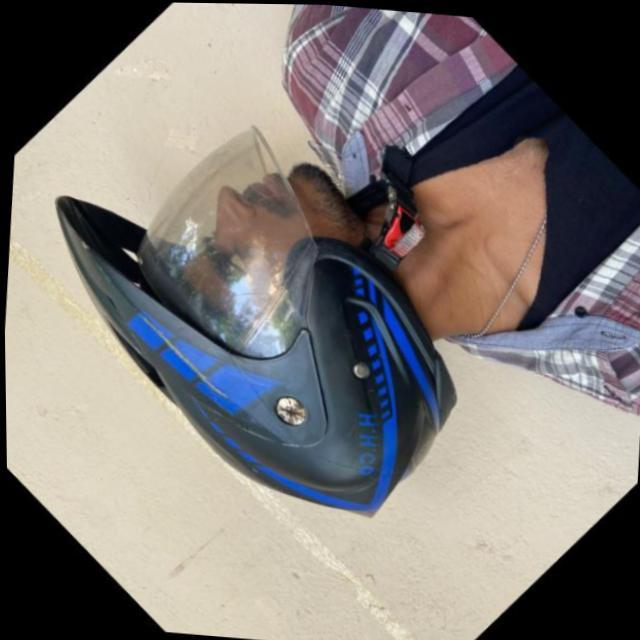with_helmet: (51, 131, 463, 525)
